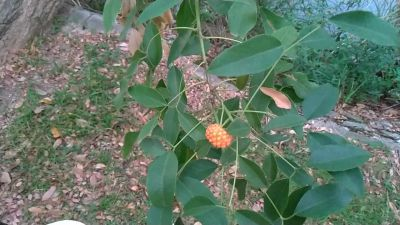eggs: (201, 113, 235, 151)
